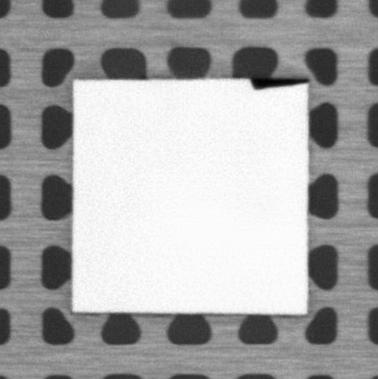DIE_BROKEN: (248, 75, 309, 91)
